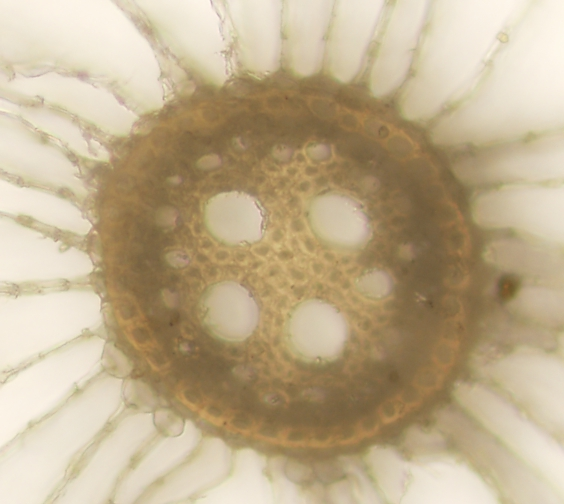lm: (286, 297, 350, 364), (194, 279, 259, 344), (307, 188, 373, 250), (202, 191, 269, 247)
